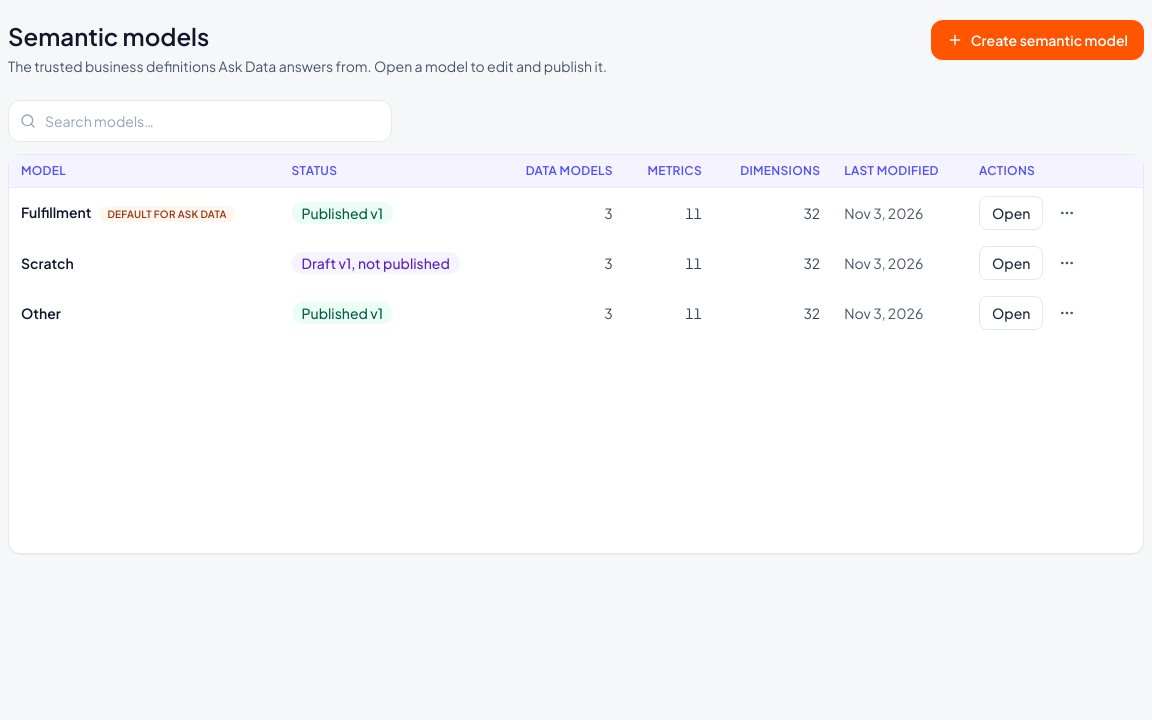
Test: Set as default › keeps the other settings, switches auto-attach on and moves the badge
Click the button named "More actions for Other".
click(1067, 313)  # box [1051,297,1083,329]
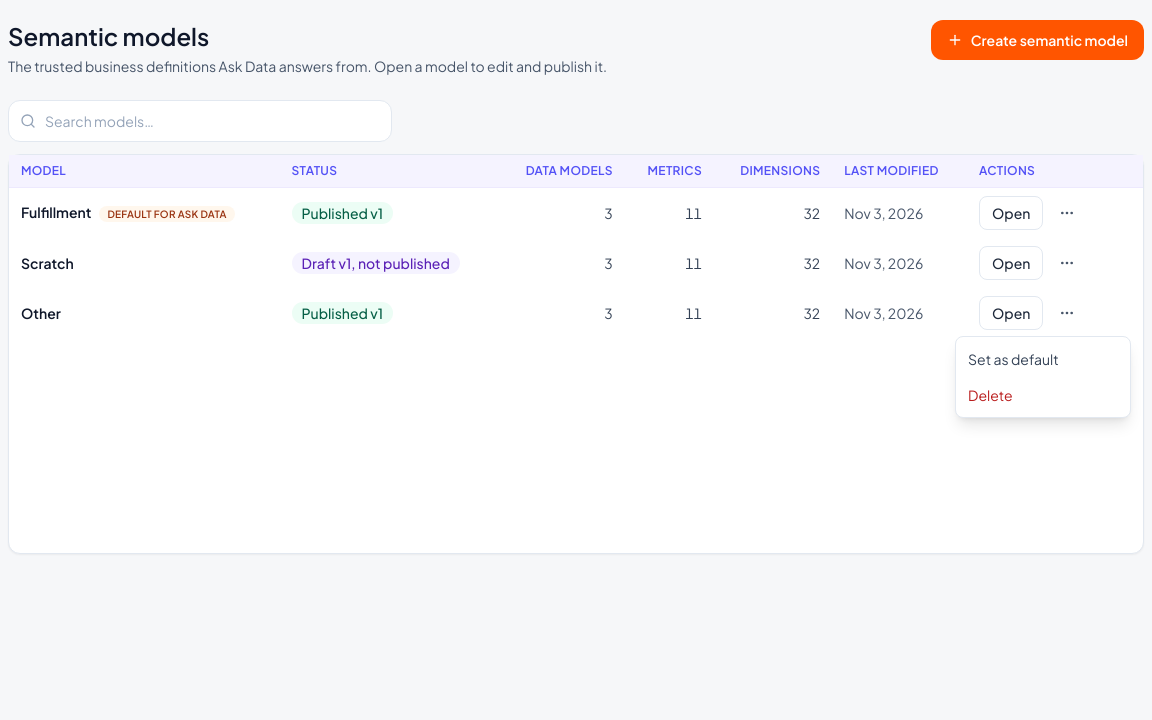
Click the menu item "Set as default".
click(1043, 359)  # box [956,341,1130,377]
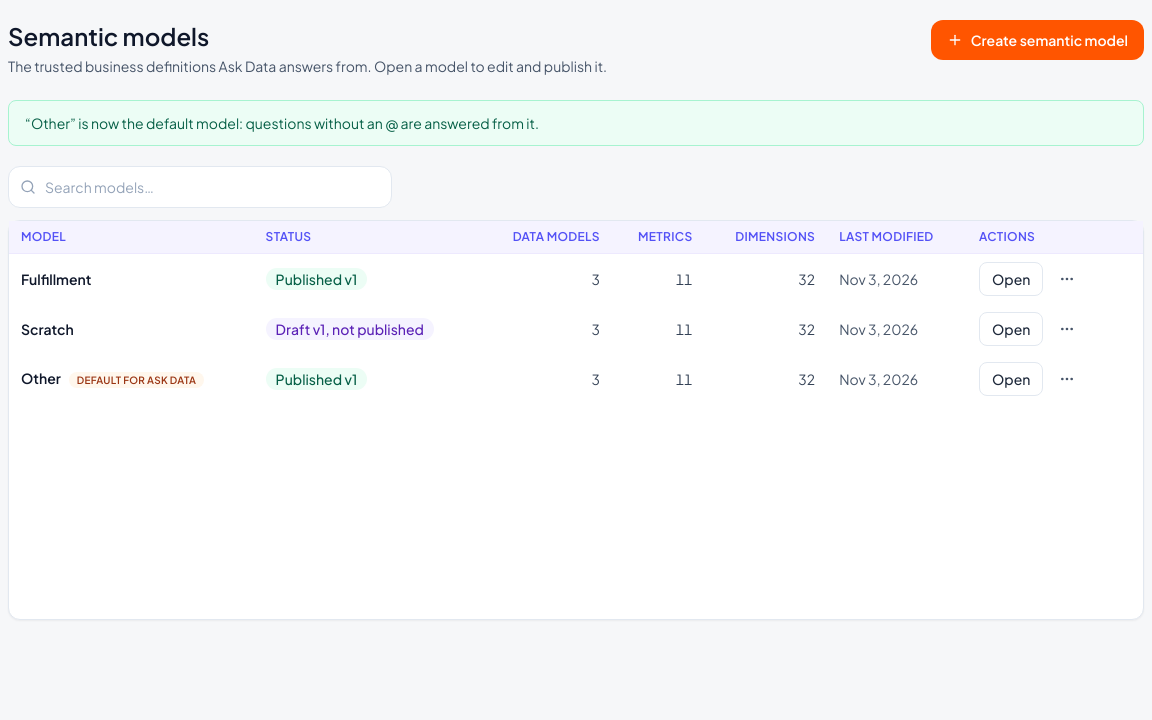
Expected: the text "Default for Ask Data" is shown, [69,372,204,388]
Now the message shows "“Other” is now the default model", box [25,114,539,132]
Click the button named "More actions for Fulfillment".
click(1067, 279)  # box [1051,263,1083,295]
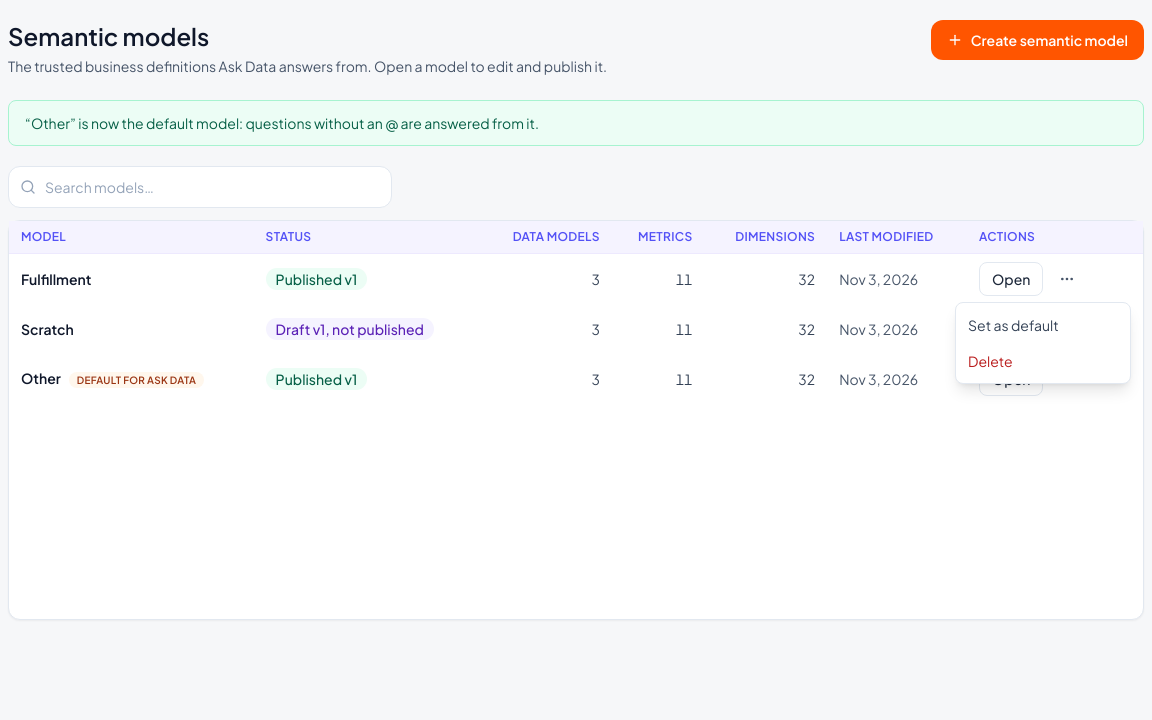
Now the menu item "Set as default" is shown, box [956,307,1130,343]
